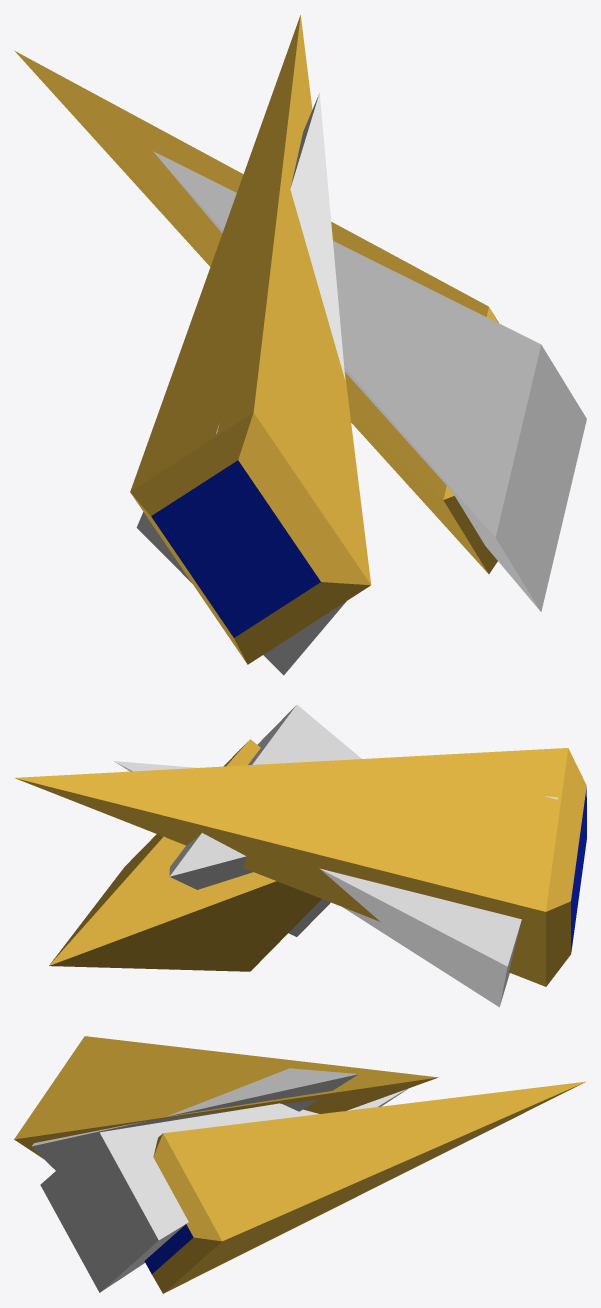
Rendered from studJewelGold.glb.
3 renders of one model, top to bottom at view 1: azimuth 30°, elevation 25°; view 2: azimuth 150°, elevation 25°; view 3: azimuth 270°, elevation 25°, orthographic. The views are drawn at different scales.
Visible parts, largest first — view 1: stud jeweled Bronze, stud plain Silver; view 2: stud jeweled Bronze, stud plain Silver; view 3: stud jeweled Bronze, stud plain Silver.
Part boxes in pixels (box(x1,y1,x2,y2)): stud jeweled Bronze: box(14, 15, 498, 664); stud plain Silver: box(136, 93, 586, 675); stud jeweled Bronze: box(15, 739, 586, 986); stud plain Silver: box(114, 705, 558, 1007); stud jeweled Bronze: box(14, 1036, 585, 1293); stud plain Silver: box(31, 1068, 408, 1292).
Bounding box in the file's own units: 0.0236 × 0.0197 × 0.0435.
